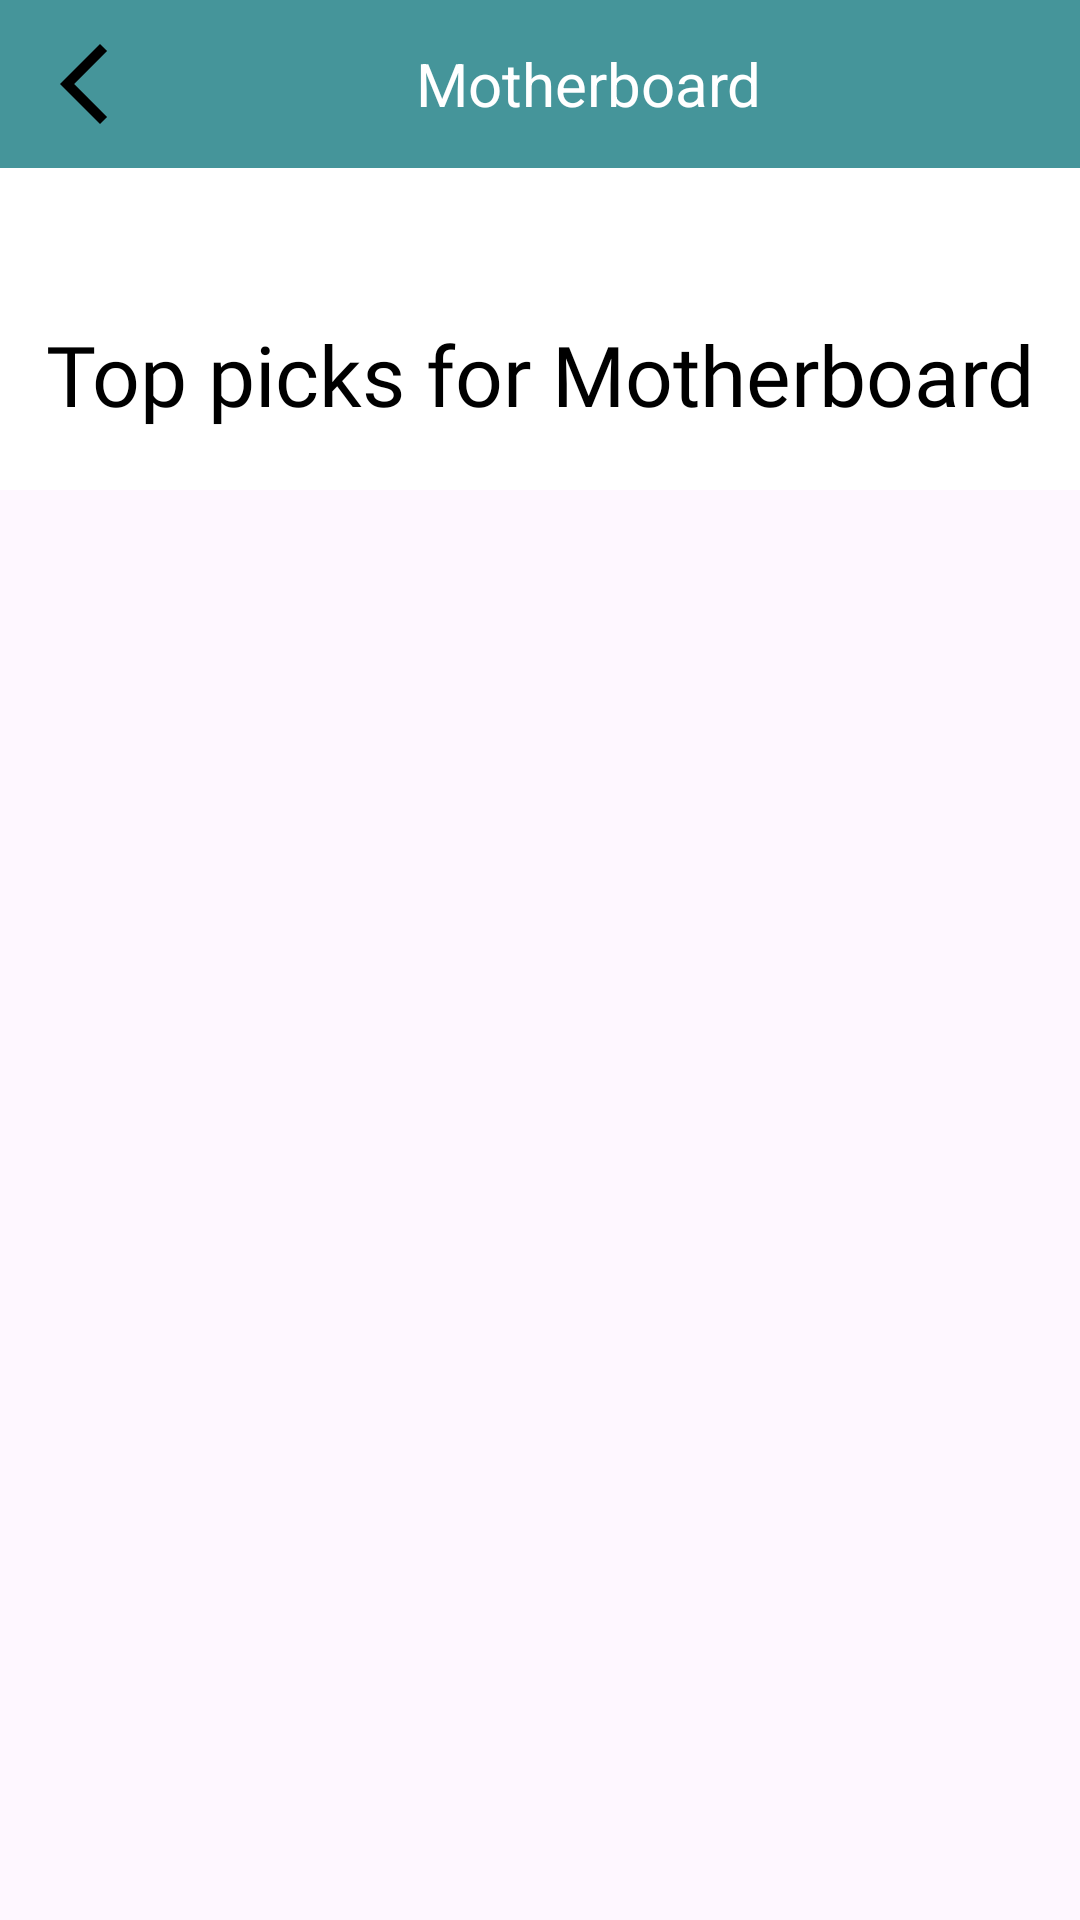

Icon bounding boxes for this 1080x1920 phone screenshot, format (x1=x1, y1=y1, x2=x2, y2=y2):
Back: (x1=60, y1=44, x2=107, y2=124)
